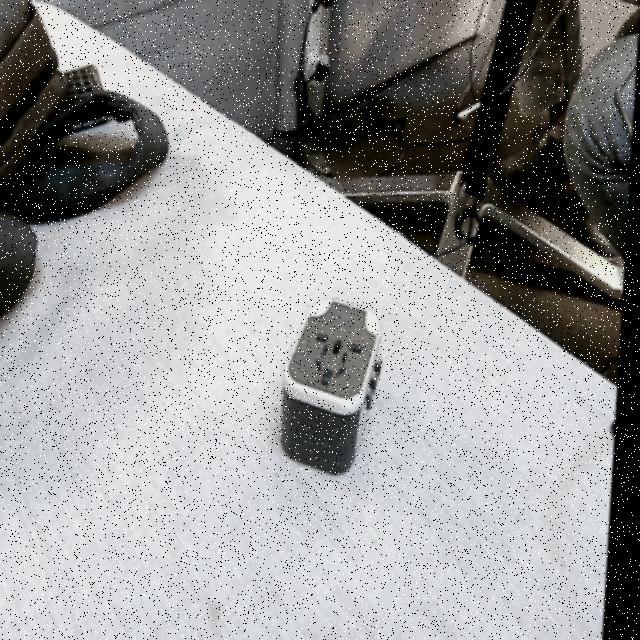adapter: (282, 297, 390, 475)
